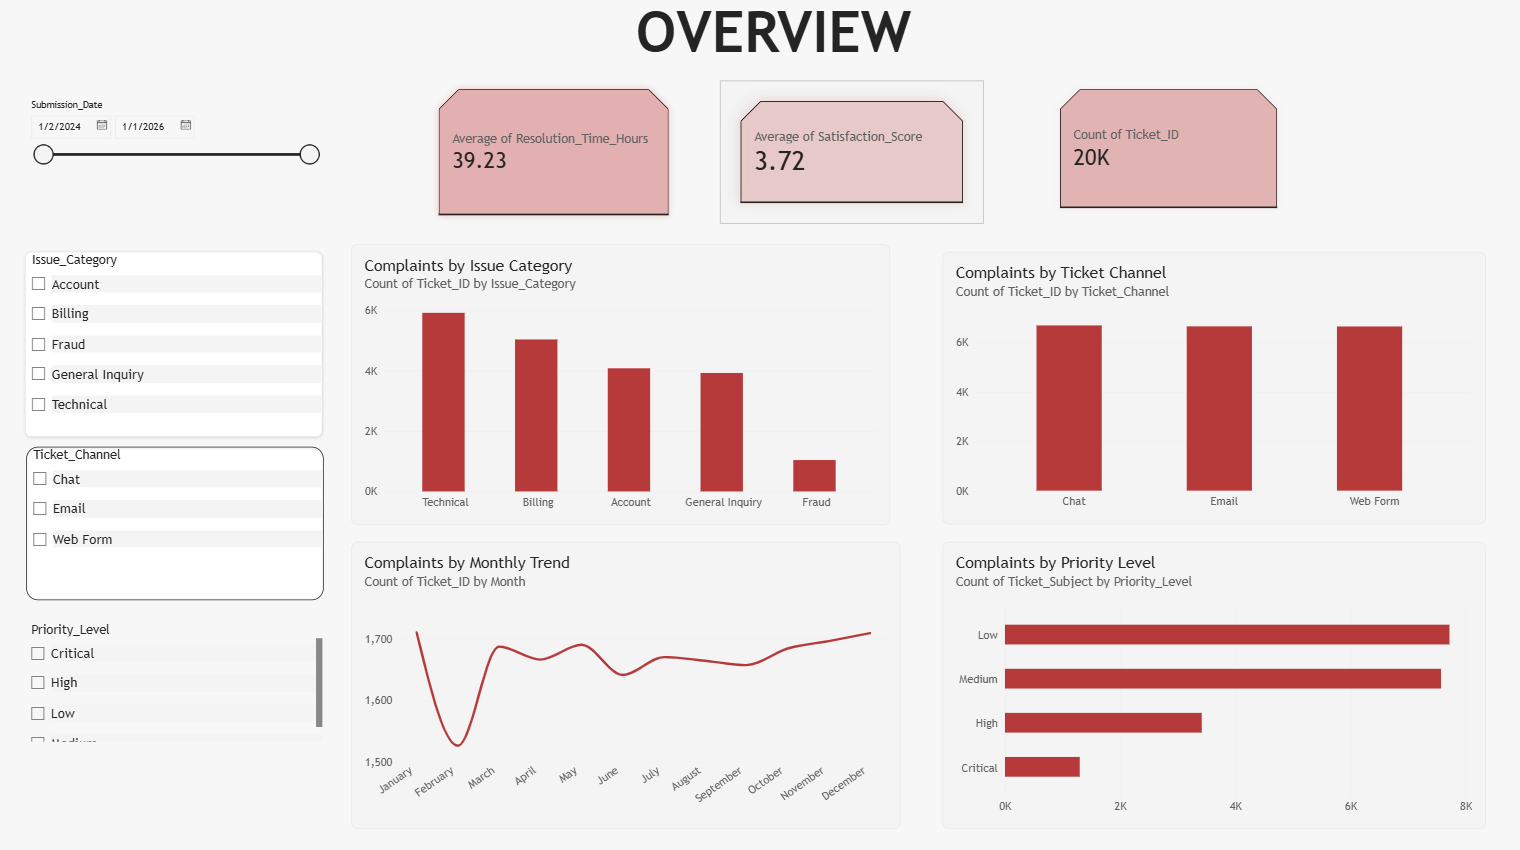

What the dashboard file says about the page in this screenshot:
{"tool":"powerbi","page":{"name":"Overview","canvas":[1920,1080],"ordinal":0},"visuals":[{"type":"cardVisual","fields":{"Data":["Count(customer_complaint_processed.Ticket_ID)"]},"box":[1325.6,104.7,296.5,172.7],"z":0},{"type":"cardVisual","fields":{"Data":["Avg(customer_complaint_processed.Resolution_Time_Hours)"]},"box":[542.4,104.7,312.2,181.4],"z":1000},{"type":"cardVisual","fields":{"Data":["Avg(customer_complaint_processed.Satisfaction_Score)"]},"box":[908.7,104.7,333.1,181.4],"z":2000},{"type":"clusteredColumnChart","title":"Complaints by Issue Category","fields":{"Category":["customer_complaint_processed.Issue_Category"],"Y":["CountNonNull(customer_complaint_processed.Ticket_ID)"]},"box":[443,310.5,680.2,354.1],"z":3000},{"type":"clusteredBarChart","title":"Complaints by Priority Level","fields":{"Category":["customer_complaint_processed.Priority_Level"],"Y":["CountNonNull(customer_complaint_processed.Ticket_Subject)"]},"box":[1189.5,685.5,685.5,362.8],"z":4000},{"type":"slicer","fields":{"Values":["customer_complaint_processed.Submission_Date"]},"box":[31.5,127.7,375.4,135.6],"z":5000},{"type":"slicer","fields":{"Values":["customer_complaint_processed.Priority_Level"]},"box":[31.5,787,375.4,151.4],"z":6000},{"type":"slicer","fields":{"Values":["customer_complaint_processed.Issue_Category"]},"box":[31.5,320.2,375.4,233.4],"z":7000},{"type":"slicer","fields":{"Values":["customer_complaint_processed.Ticket_Channel"]},"box":[33.1,566.9,375,193.6],"z":8000},{"type":"clusteredColumnChart","title":"Complaints by Ticket Channel","fields":{"Category":["customer_complaint_processed.Ticket_Channel"],"Y":["CountNonNull(customer_complaint_processed.Ticket_ID)"]},"box":[1189.5,320.9,685.5,343.6],"z":9000},{"type":"lineChart","title":"Complaints by Monthly Trend ","fields":{"Category":["customer_complaint_processed.Submission_Date.Variation.Date Hierarchy.Month"],"Y":["CountNonNull(customer_complaint_processed.Ticket_ID)"]},"box":[443,685.5,692.4,362.8],"z":10000},{"type":"textbox","box":[0,0,1918.6,104.7],"z":10003}]}

Visuals, with their boxes in screenshot pixels (x1, y1, x2, y2), scaled from the page's 1920x1080 canvas onto the 1520x850 screenshot:
cardVisual - Count(customer_complaint_processed.Ticket_ID): select_region(1049, 82, 1284, 218)
cardVisual - Avg(customer_complaint_processed.Resolution_Time_Hours): select_region(429, 82, 677, 225)
cardVisual - Avg(customer_complaint_processed.Satisfaction_Score): select_region(719, 82, 983, 225)
"Complaints by Issue Category" clusteredColumnChart: select_region(351, 244, 889, 523)
"Complaints by Priority Level" clusteredBarChart: select_region(942, 540, 1484, 825)
slicer - customer_complaint_processed.Submission_Date: select_region(25, 101, 322, 207)
slicer - customer_complaint_processed.Priority_Level: select_region(25, 619, 322, 739)
slicer - customer_complaint_processed.Issue_Category: select_region(25, 252, 322, 436)
slicer - customer_complaint_processed.Ticket_Channel: select_region(26, 446, 323, 599)
"Complaints by Ticket Channel" clusteredColumnChart: select_region(942, 253, 1484, 523)
"Complaints by Monthly Trend " lineChart: select_region(351, 540, 899, 825)
textbox: select_region(0, 0, 1519, 82)
